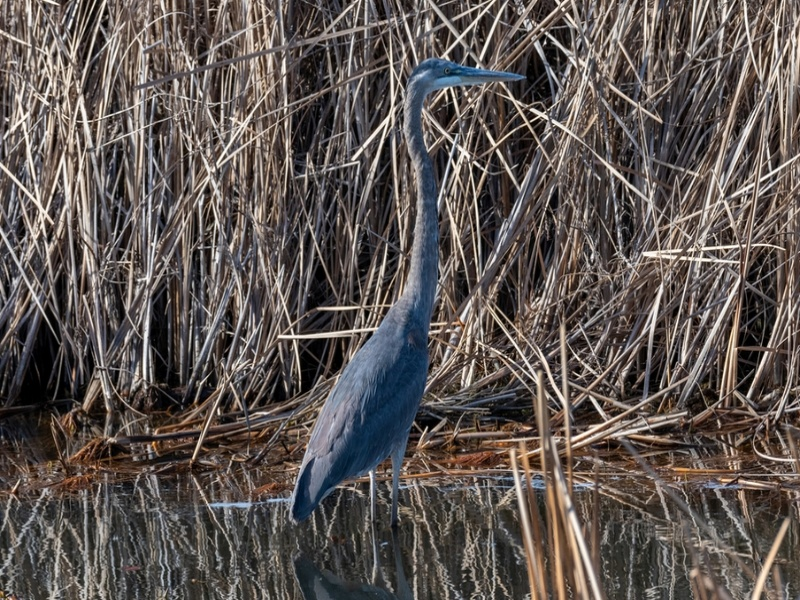heron: (285, 54, 530, 543)
